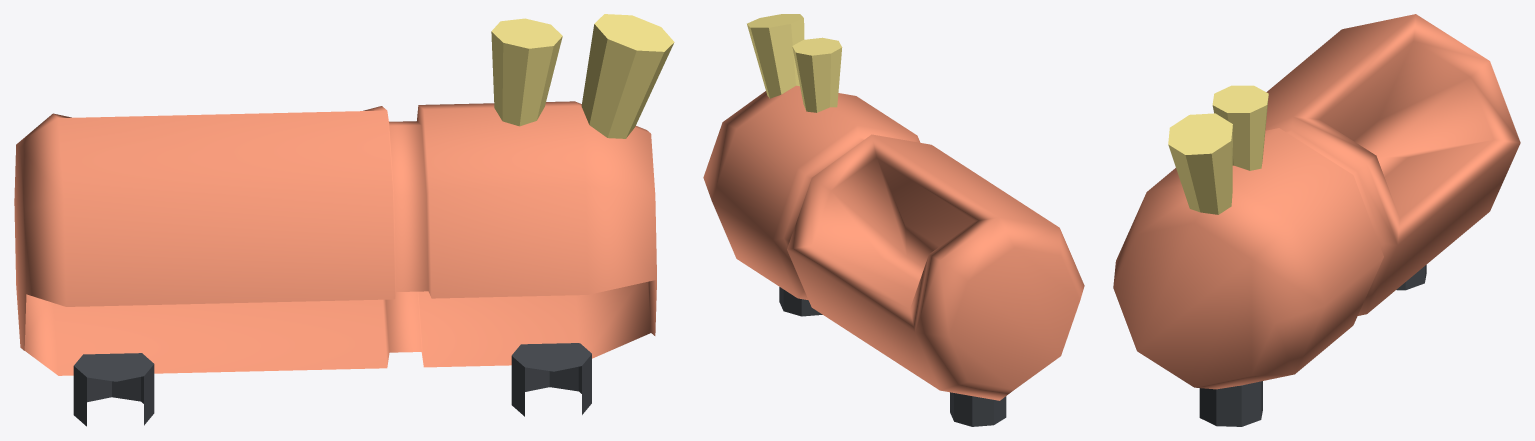
The model's file is Pon.fbx.
3 views of the same model, side by side, from view 1: azimuth 30°, elevation 25°; view 2: azimuth 150°, elevation 25°; view 3: azimuth 270°, elevation 25° (orthographic). The views are drawn at different scales.
Parts seen in each view (by area): view 1: FertilizerGenerator:pCylinder1, FertilizerGenerator:pCylinder4, FertilizerGenerator:pCylinder5, FertilizerGenerator:pCylinder6, FertilizerGenerator:pCylinder7; view 2: FertilizerGenerator:pCylinder1, FertilizerGenerator:pCylinder4, FertilizerGenerator:pCylinder5, FertilizerGenerator:pCylinder6, FertilizerGenerator:pCylinder7; view 3: FertilizerGenerator:pCylinder1, FertilizerGenerator:pCylinder4, FertilizerGenerator:pCylinder5, FertilizerGenerator:pCylinder7.
Part boxes in pixels (x1=…): FertilizerGenerator:pCylinder1: x1=14, y1=101, x2=656, y2=375; FertilizerGenerator:pCylinder4: x1=581, y1=14, x2=674, y2=138; FertilizerGenerator:pCylinder5: x1=491, y1=18, x2=562, y2=126; FertilizerGenerator:pCylinder6: x1=73, y1=353, x2=154, y2=426; FertilizerGenerator:pCylinder7: x1=511, y1=343, x2=591, y2=416; FertilizerGenerator:pCylinder1: x1=703, y1=85, x2=1084, y2=400; FertilizerGenerator:pCylinder4: x1=747, y1=14, x2=804, y2=98; FertilizerGenerator:pCylinder5: x1=792, y1=37, x2=842, y2=112; FertilizerGenerator:pCylinder6: x1=950, y1=392, x2=1006, y2=426; FertilizerGenerator:pCylinder7: x1=779, y1=287, x2=822, y2=316; FertilizerGenerator:pCylinder1: x1=1113, y1=14, x2=1520, y2=389; FertilizerGenerator:pCylinder4: x1=1168, y1=113, x2=1232, y2=214; FertilizerGenerator:pCylinder5: x1=1212, y1=85, x2=1268, y2=170; FertilizerGenerator:pCylinder7: x1=1199, y1=381, x2=1262, y2=426.
Size of the model in its own units: 14.08 by 8.89 by 10.47.
